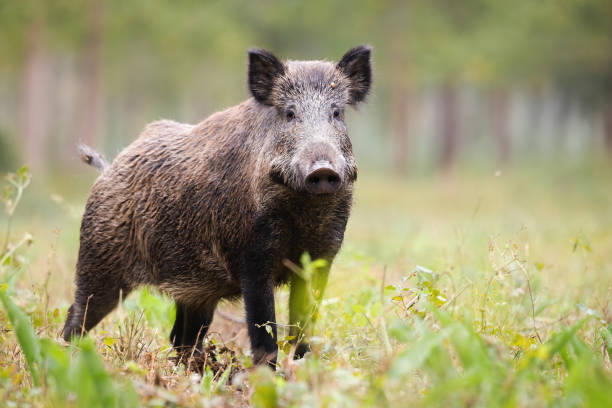pig: (42, 48, 369, 357)
